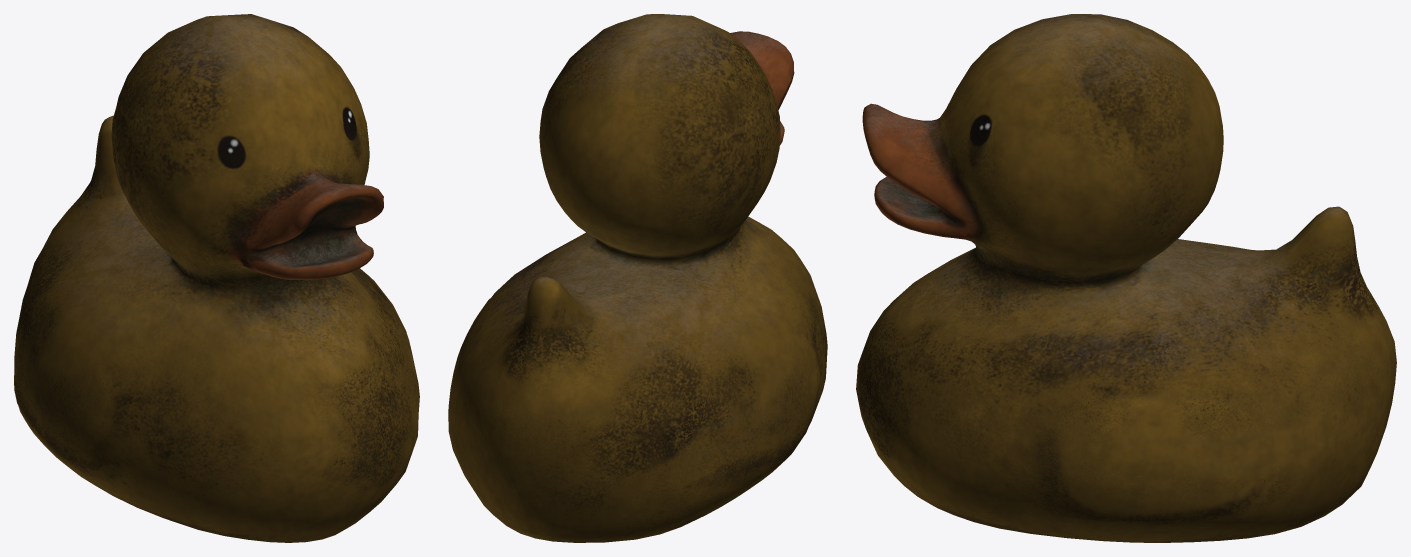
Rendered from rubber_duck_toy.glb.
The picture shows the model from 3 angles, left to right: view 1: azimuth 30°, elevation 25°; view 2: azimuth 150°, elevation 25°; view 3: azimuth 270°, elevation 25°; orthographic projection. The views are drawn at different scales.
Parts seen in each view (by area): view 1: rubber_duck_toy; view 2: rubber_duck_toy; view 3: rubber_duck_toy.
Part boxes in pixels (bbox=[...]): rubber_duck_toy: bbox=[14, 14, 419, 542]; rubber_duck_toy: bbox=[448, 14, 827, 542]; rubber_duck_toy: bbox=[856, 14, 1396, 542].
Bounding box in the file's own units: 0.2135 × 0.2855 × 0.3.
1 material, 1 textured.
